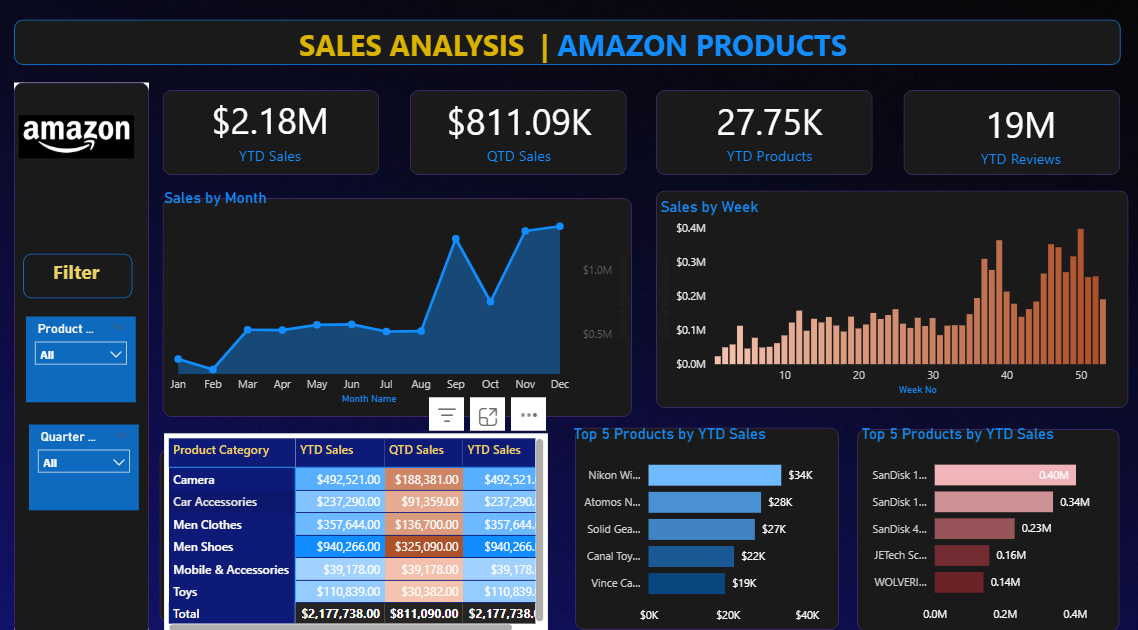

The dashboard page shown, as its layout file describes it:
{"tool":"powerbi","page":{"name":"Page 1","canvas":[1280,720],"ordinal":0},"visuals":[{"type":"shape","box":[22.8,24.4,1229.7,50.4],"z":0},{"type":"textbox","box":[335.1,24.4,624.6,58.6],"z":1000},{"type":"shape","box":[23.3,95,150,615],"z":2000},{"type":"shape","box":[188.7,104.1,240.7,94.3],"z":3000},{"type":"card","fields":{"Values":["Amazon_Data.YTD Sales"]},"box":[201.7,101.7,211.7,90],"z":4000},{"type":"shape","box":[463,104.1,240.7,94.3],"z":5000},{"type":"shape","box":[737.4,104.1,240.7,94.3],"z":6000},{"type":"shape","box":[1011.7,104.1,240.7,94.3],"z":7000},{"type":"card","fields":{"Values":["Amazon_Data.QTD Sales"]},"box":[476.7,103.3,215,88.3],"z":8000},{"type":"card","fields":{"Values":["Amazon_Data.YTD Products"]},"box":[748.3,100,228.3,95],"z":9000},{"type":"card","fields":{"Values":["Amazon_Data.YTD Reviews"]},"box":[1011.7,103.3,260,95],"z":10000},{"type":"shape","box":[188.3,223.3,521.7,243.3],"z":11000},{"type":"areaChart","title":"Sales by  Month","fields":{"Category":["Date Table.Month Name"],"Y2":["Amazon_Data.Price(Dollar)"]},"box":[185,213.3,525,243.3],"z":12000},{"type":"shape","box":[736.7,215,525,241.7],"z":13000},{"type":"columnChart","title":"Sales by Week ","fields":{"Category":["Date Table.Week No"],"Y":["Amazon_Data.Price(Dollar)"]},"box":[736.7,223.3,525,223.3],"z":14000},{"type":"shape","box":[185,501.7,431.7,193.3],"z":15000},{"type":"pivotTable","fields":{"Rows":["Amazon_Data.Product Category"],"Values":["Amazon_Data.YTD Sales","Amazon_Data.QTD Sales","Amazon_Data.YTD Sales"]},"box":[190,485,426.7,225],"z":16000},{"type":"shape","box":[646.7,478.3,293.3,225],"z":17000},{"type":"barChart","title":"Top 5 Products by YTD Sales","fields":{"Y":["Amazon_Data.YTD Sales"],"Category":["Amazon_Data.Product Description"]},"box":[640,475,300,230],"z":18000},{"type":"shape","box":[960,480,291.7,225],"z":19000},{"type":"barChart","title":"Top 5 Products by YTD Sales","fields":{"Category":["Amazon_Data.Product Description"],"Y":["Amazon_Data.YTD Reviews"]},"box":[960,475,293.3,228.3],"z":20000},{"type":"slicer","fields":{"Values":["Amazon_Data.Product Category"]},"box":[36.7,355,121.7,95],"z":21000},{"type":"slicer","fields":{"Values":["Date Table.Quarter No"]},"box":[40,475,121.7,95],"z":22000},{"type":"image","box":[23.3,86.7,138.3,136.7],"z":23000},{"type":"shape","box":[33.3,285,121.7,50],"z":24000},{"type":"textbox","box":[61.7,285,73.3,46.7],"z":25000}]}

Visuals, with their boxes in screenshot pixels (x1, y1, x2, y2), scaled from the page's 1280x720 canvas onto the 1138x630 screenshot:
shape: bbox=(20, 21, 1114, 65)
textbox: bbox=(298, 21, 853, 73)
shape: bbox=(21, 83, 154, 621)
shape: bbox=(168, 91, 382, 174)
card - Amazon_Data.YTD Sales: bbox=(179, 89, 368, 168)
shape: bbox=(412, 91, 626, 174)
shape: bbox=(656, 91, 870, 174)
shape: bbox=(899, 91, 1113, 174)
card - Amazon_Data.QTD Sales: bbox=(424, 90, 615, 168)
card - Amazon_Data.YTD Products: bbox=(665, 88, 868, 171)
card - Amazon_Data.YTD Reviews: bbox=(899, 90, 1131, 174)
shape: bbox=(167, 195, 631, 408)
"Sales by  Month" areaChart: bbox=(164, 187, 631, 400)
shape: bbox=(655, 188, 1122, 400)
"Sales by Week " columnChart: bbox=(655, 195, 1122, 391)
shape: bbox=(164, 439, 548, 608)
pivotTable - Amazon_Data.Product Category x Amazon_Data.YTD Sales: bbox=(169, 424, 548, 621)
shape: bbox=(575, 419, 836, 615)
"Top 5 Products by YTD Sales" barChart: bbox=(569, 416, 836, 617)
shape: bbox=(854, 420, 1113, 617)
"Top 5 Products by YTD Sales" barChart: bbox=(854, 416, 1114, 615)
slicer - Amazon_Data.Product Category: bbox=(33, 311, 141, 394)
slicer - Date Table.Quarter No: bbox=(36, 416, 144, 499)
image: bbox=(21, 76, 144, 195)
shape: bbox=(30, 249, 138, 293)
textbox: bbox=(55, 249, 120, 290)
